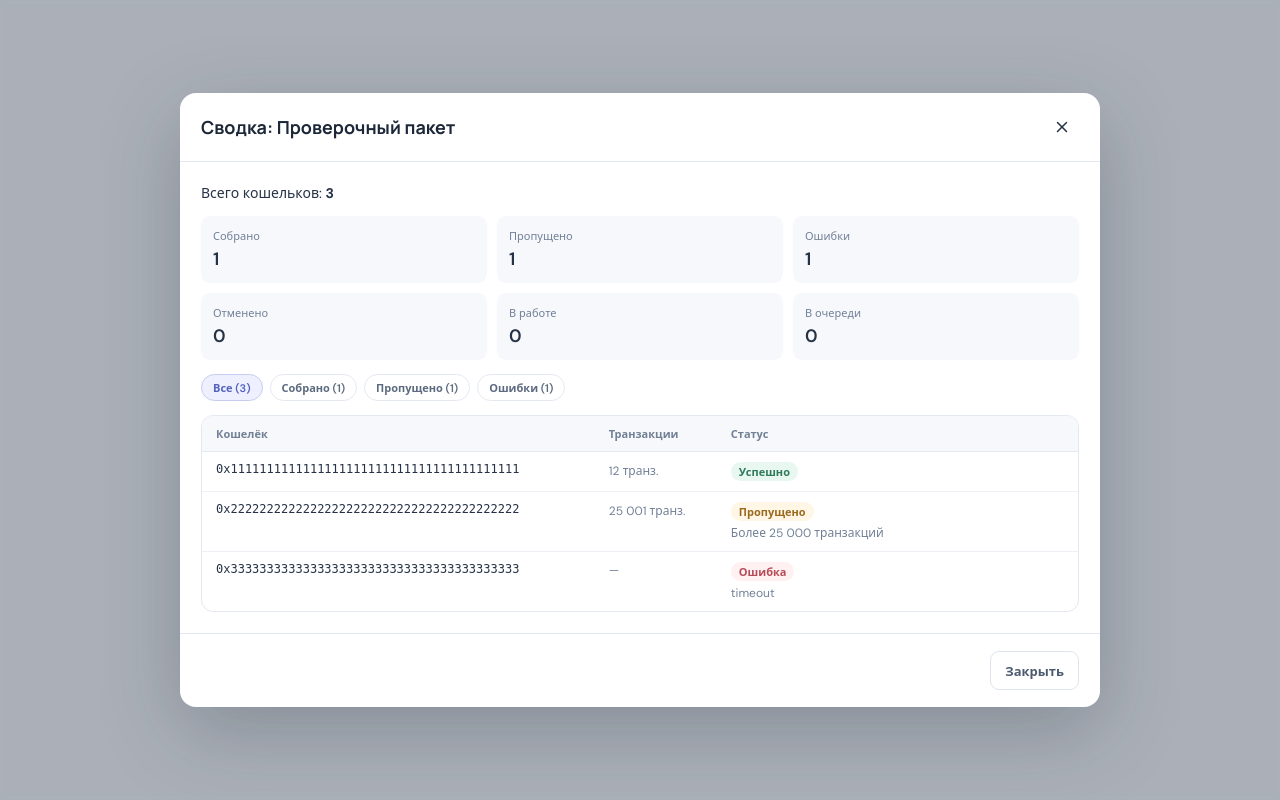
Test: JobSummaryModal › filters wallets by status chips
Expected: the text "0x1111111111111111111111111111111111111111" is shown, [216,462,519,476]
Expected: the text "0x2222222222222222222222222222222222222222" is shown, [216,502,519,516]
Click the button "Пропущено (1)".
click(417, 387)  # box [364,374,470,401]
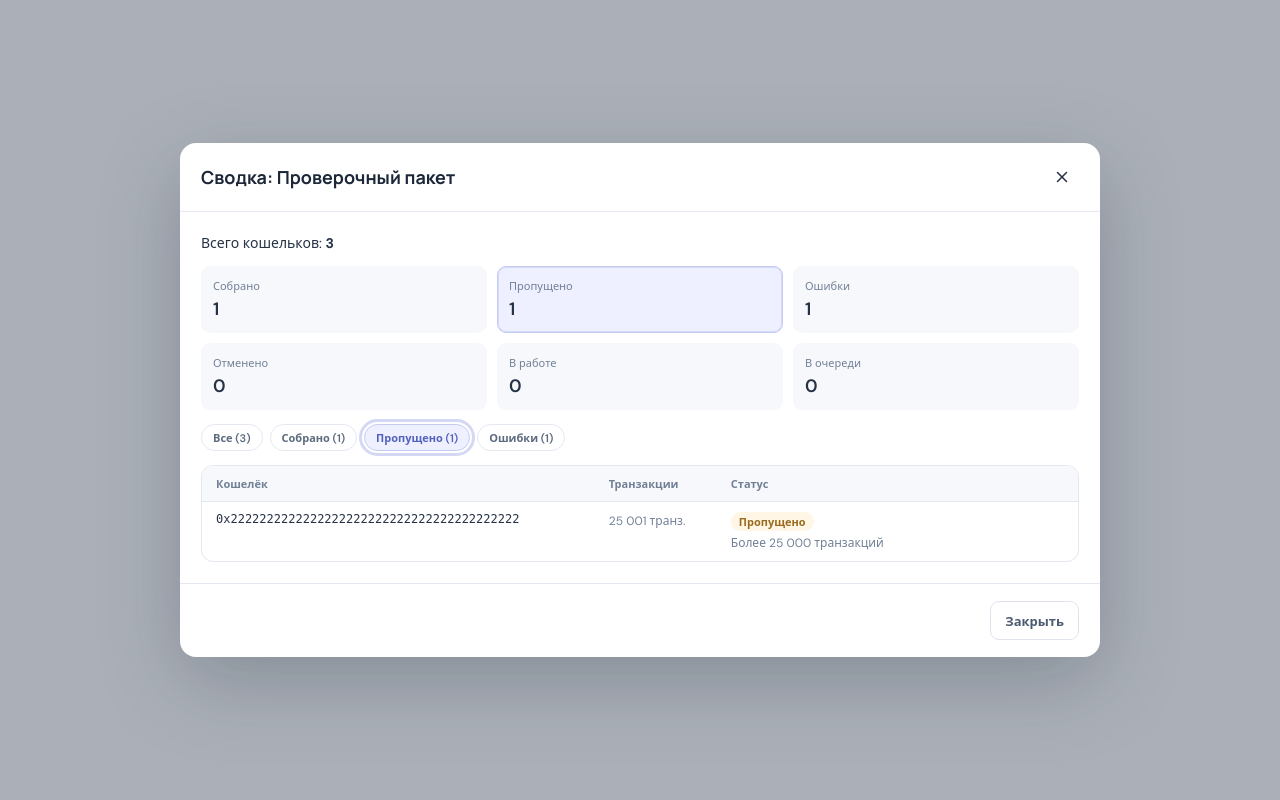
Expected: the text "0x2222222222222222222222222222222222222222" is shown, [216,512,519,526]
Now the text "0x1111111111111111111111111111111111111111" is gone
Now the text "0x3333333333333333333333333333333333333333" is gone
Click the button "Ошибки (1)".
click(521, 437)  # box [477,424,565,451]
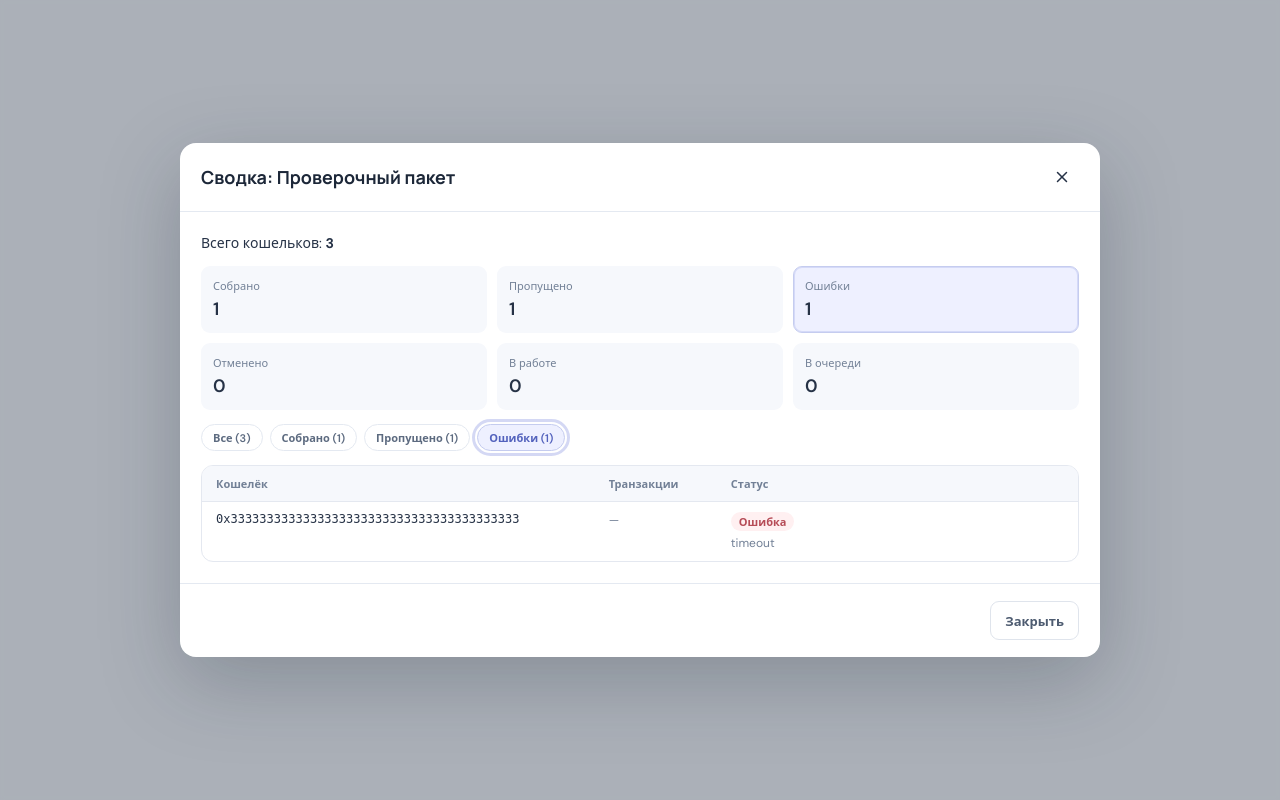
Now the text "0x3333333333333333333333333333333333333333" is shown, box [216,512,519,526]
Now the text "0x2222222222222222222222222222222222222222" is gone
Click the button "Все (3)".
click(232, 437)  # box [201,424,262,451]
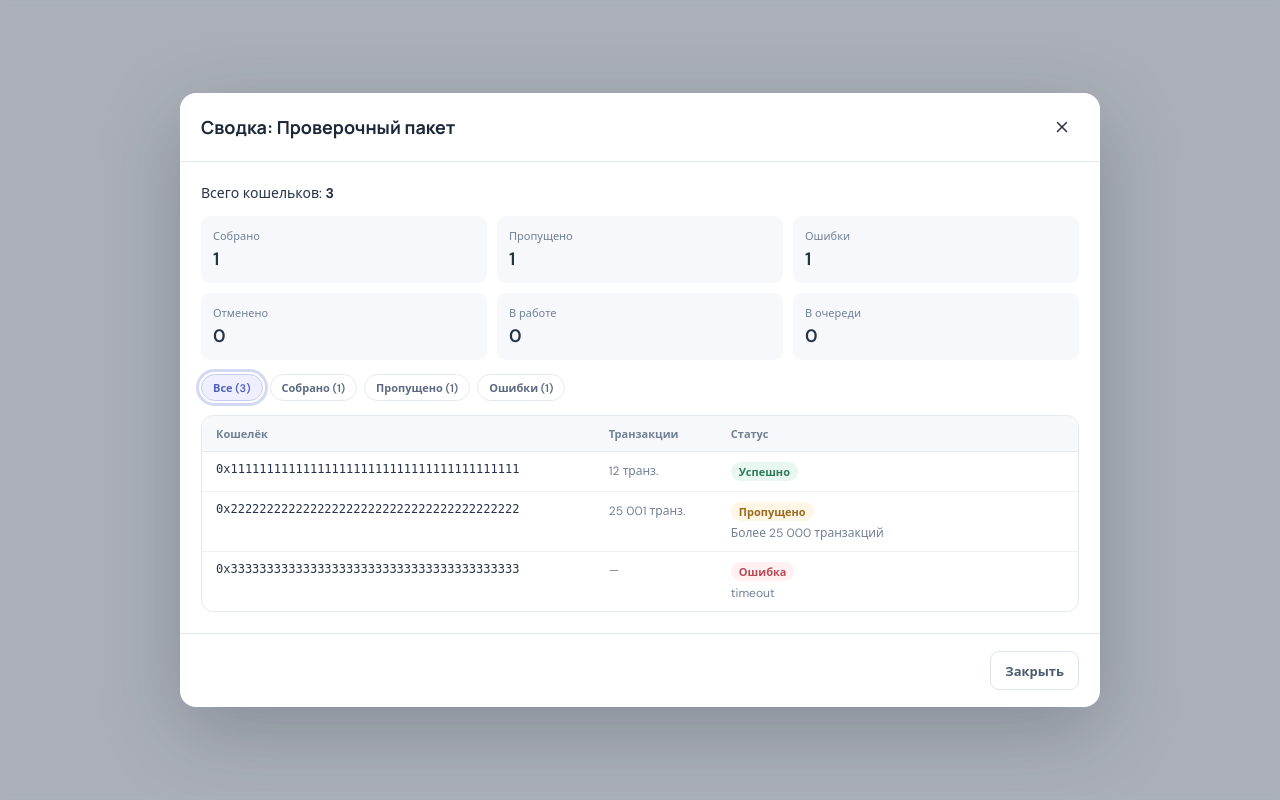
Now the text "0x3333333333333333333333333333333333333333" is shown, box [216,562,519,576]
Now the text "0x1111111111111111111111111111111111111111" is shown, box [216,462,519,476]
Now the text "0x2222222222222222222222222222222222222222" is shown, box [216,502,519,516]
